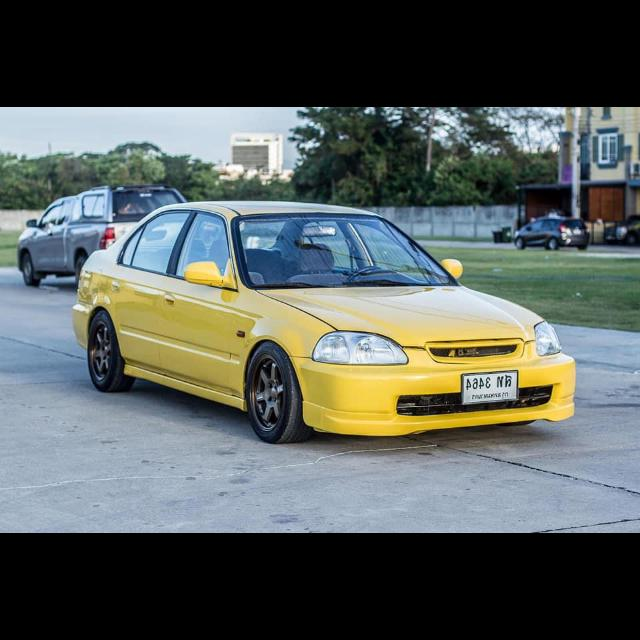cars: (61, 198, 582, 447)
